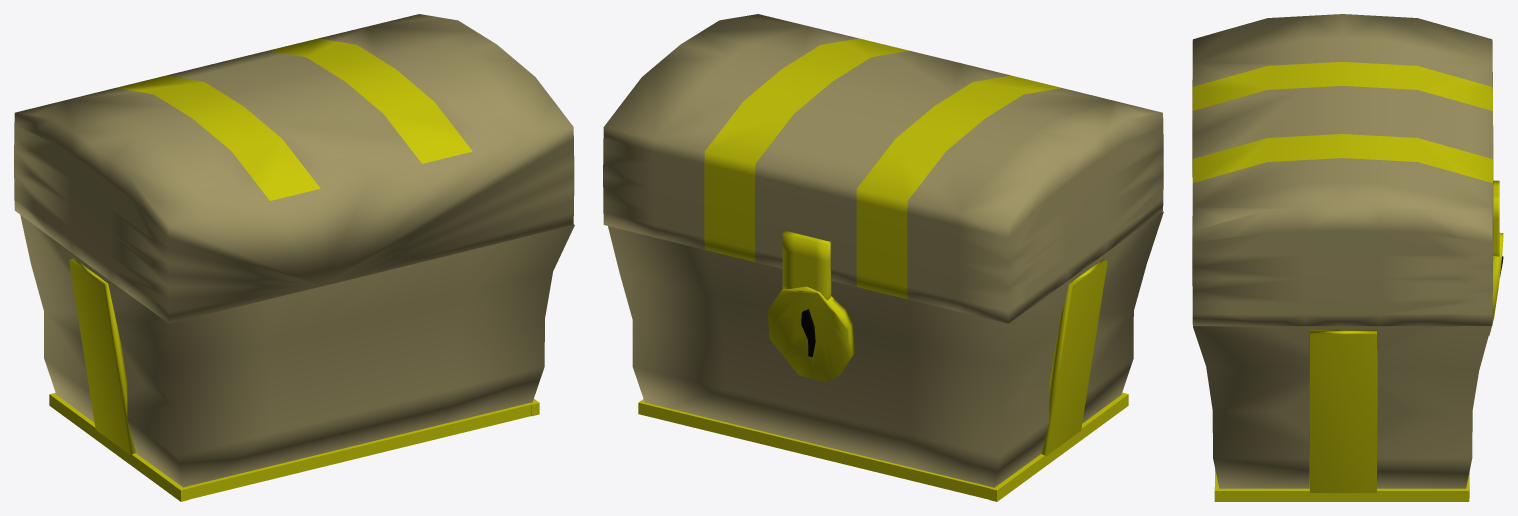
File: FolklostChest.fbx
3 views of the same model, side by side, from view 1: azimuth 30°, elevation 25°; view 2: azimuth 150°, elevation 25°; view 3: azimuth 270°, elevation 25° (orthographic). The views are drawn at different scales.
Parts seen in each view (by area): view 1: ChestCover, polySurface1; view 2: ChestCover, polySurface1; view 3: ChestCover, polySurface1.
Part boxes in pixels (bbox=[...]): ChestCover: bbox=[14, 14, 574, 323]; polySurface1: bbox=[20, 215, 574, 501]; ChestCover: bbox=[603, 14, 1163, 323]; polySurface1: bbox=[608, 211, 1163, 501]; ChestCover: bbox=[1192, 14, 1499, 326]; polySurface1: bbox=[1193, 232, 1503, 501].
Bounding box in the file's own units: 4.24 × 3.07 × 2.82.
